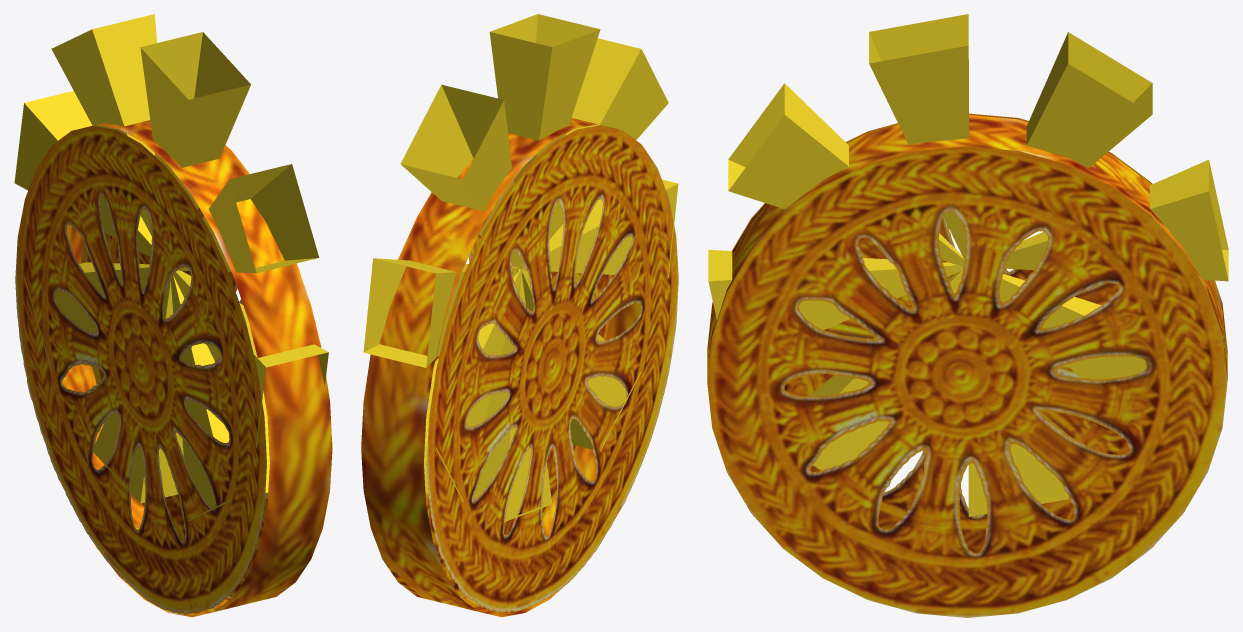
Rendered from ChariotWheels.fbx.
The picture shows the model from 3 angles, left to right: view 1: azimuth 30°, elevation 25°; view 2: azimuth 150°, elevation 25°; view 3: azimuth 270°, elevation 25°; orthographic projection. The views are drawn at different scales.
Visible parts, largest first — view 1: Cylinder, Wheel2; view 2: Cylinder, Wheel2; view 3: Cylinder, Wheel2.
Part boxes in pixels (box(x1,y1,x2,y2)): Cylinder: box(15, 120, 332, 617); Wheel2: box(14, 14, 328, 520); Cylinder: box(361, 118, 678, 617); Wheel2: box(363, 14, 678, 521); Cylinder: box(707, 113, 1227, 617); Wheel2: box(708, 14, 1228, 516).
Size of the model in its own units: 0.301 by 2.42 by 2.
